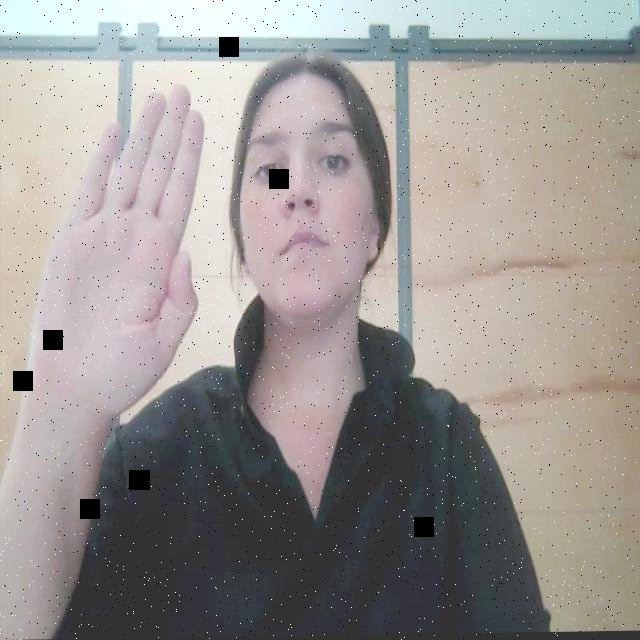Paper: (16, 74, 202, 442)
